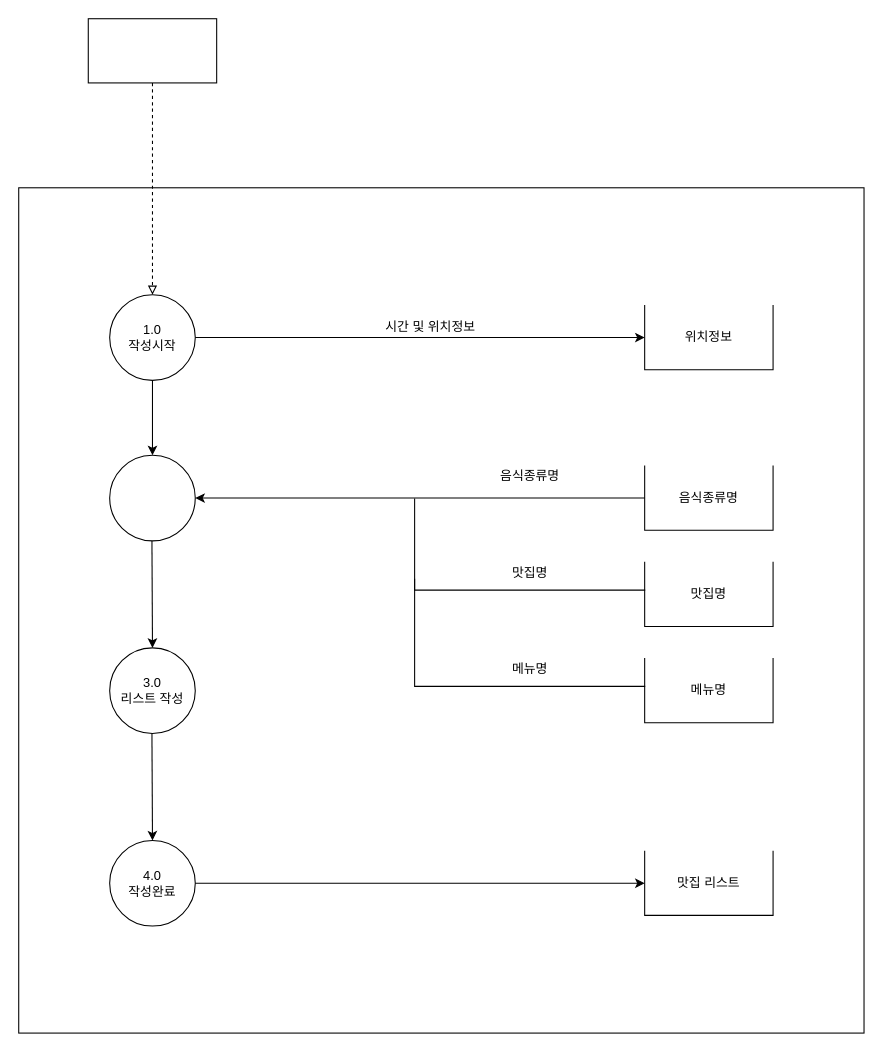
Some shapes in this 883 by 1052 pixel diagram are drawn without their labels. Each missing label, with the centre of its shape:
"2.0 정보조회" belongs at point (152, 497).
"맛집정보검색자(유저)" belongs at point (152, 50).
